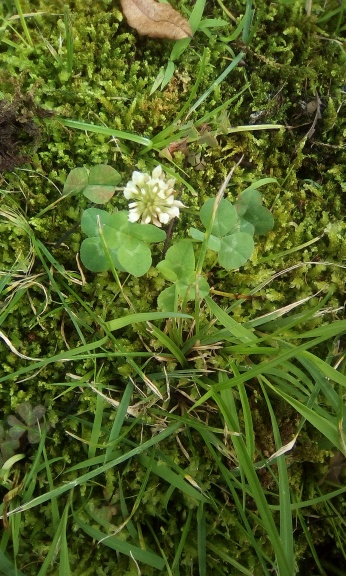4leaf: (156, 238, 210, 314)
